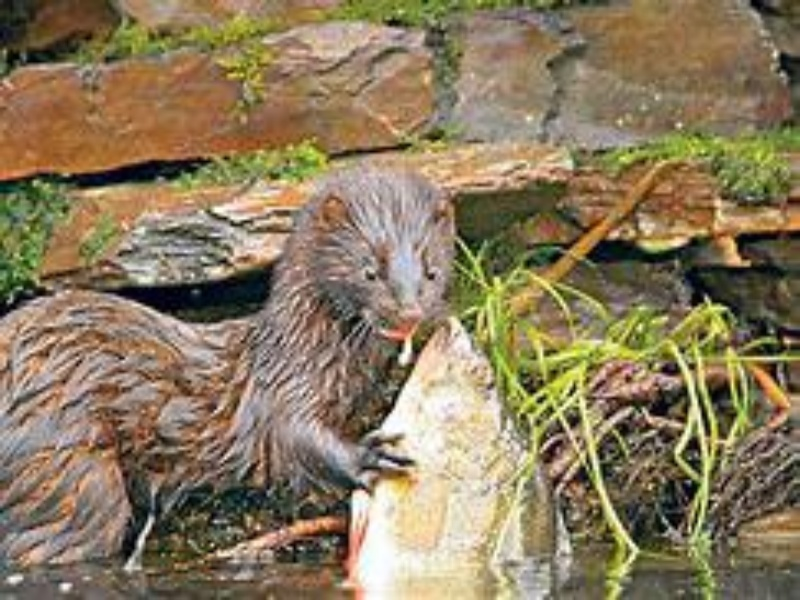minkish: (2, 161, 466, 572)
